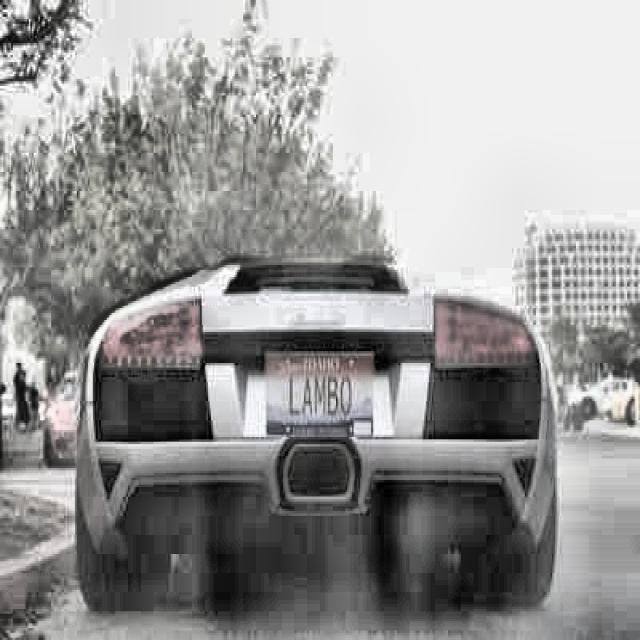license_plate: (264, 352, 378, 437)
